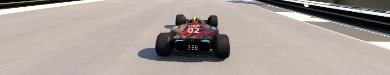Car: (154, 13, 230, 57)
curve: (0, 0, 389, 74)
obstacles-Borders: (249, 0, 389, 36)
